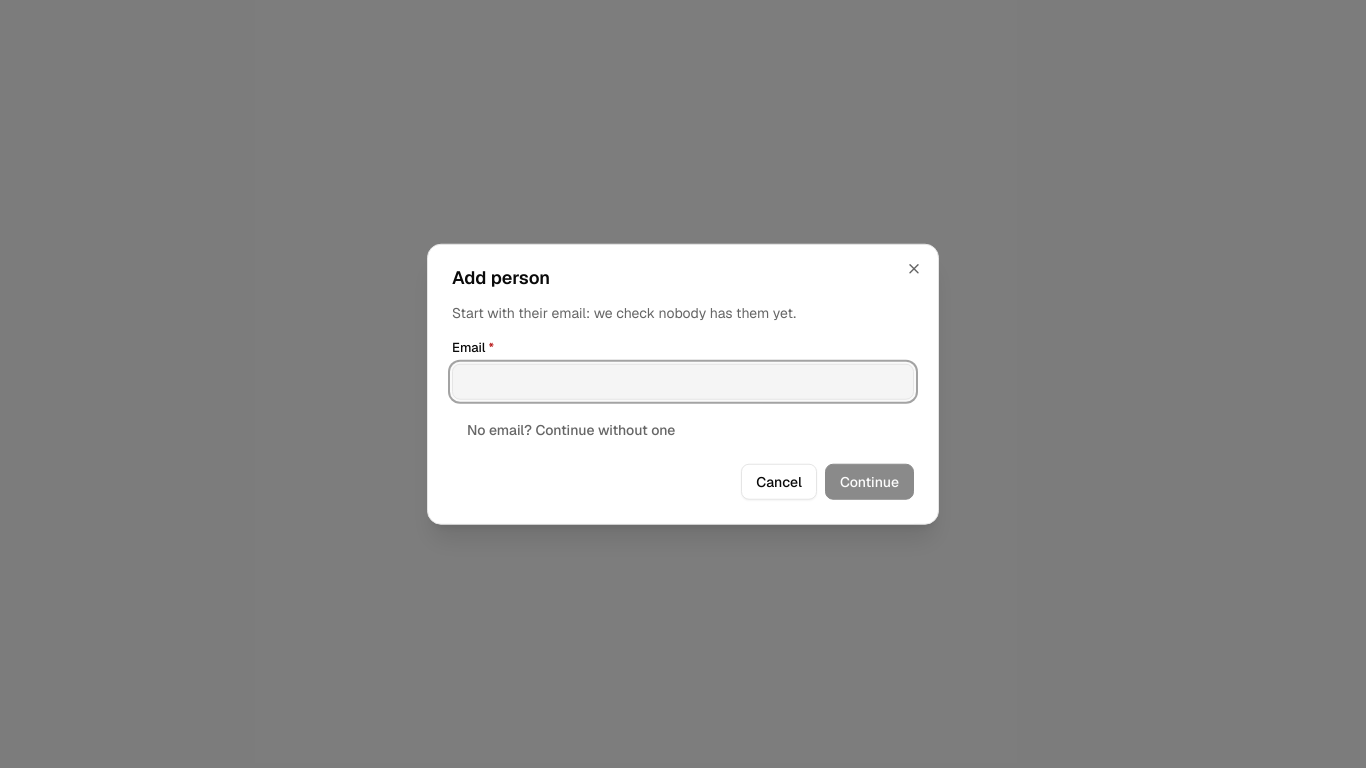
Test: Add person: the address first › a taken address stops there, saying whose person it is
Type "dyoung@ftrintel.com" into the field labelled "Email *" at (683, 381), box [452, 363, 914, 399]
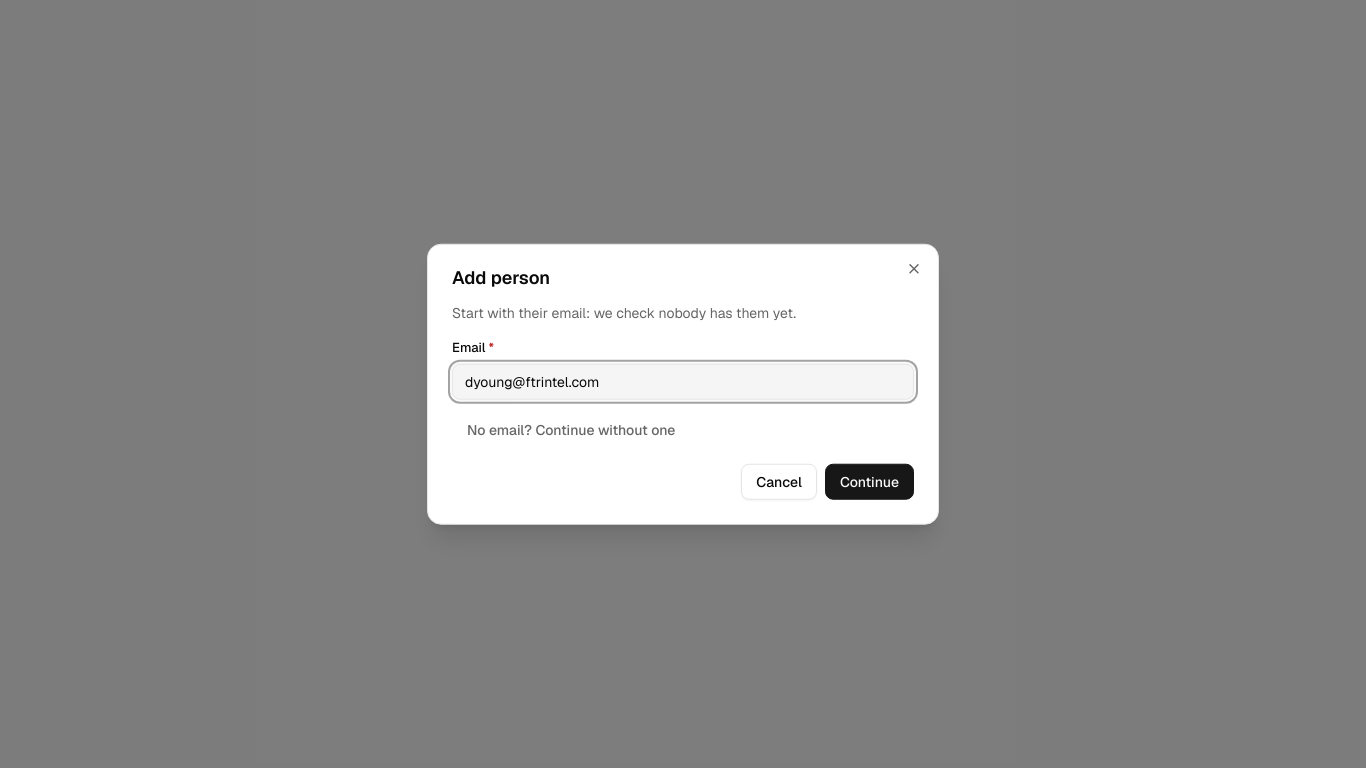
Click the button "Continue" at (869, 481), box [825, 463, 914, 499]
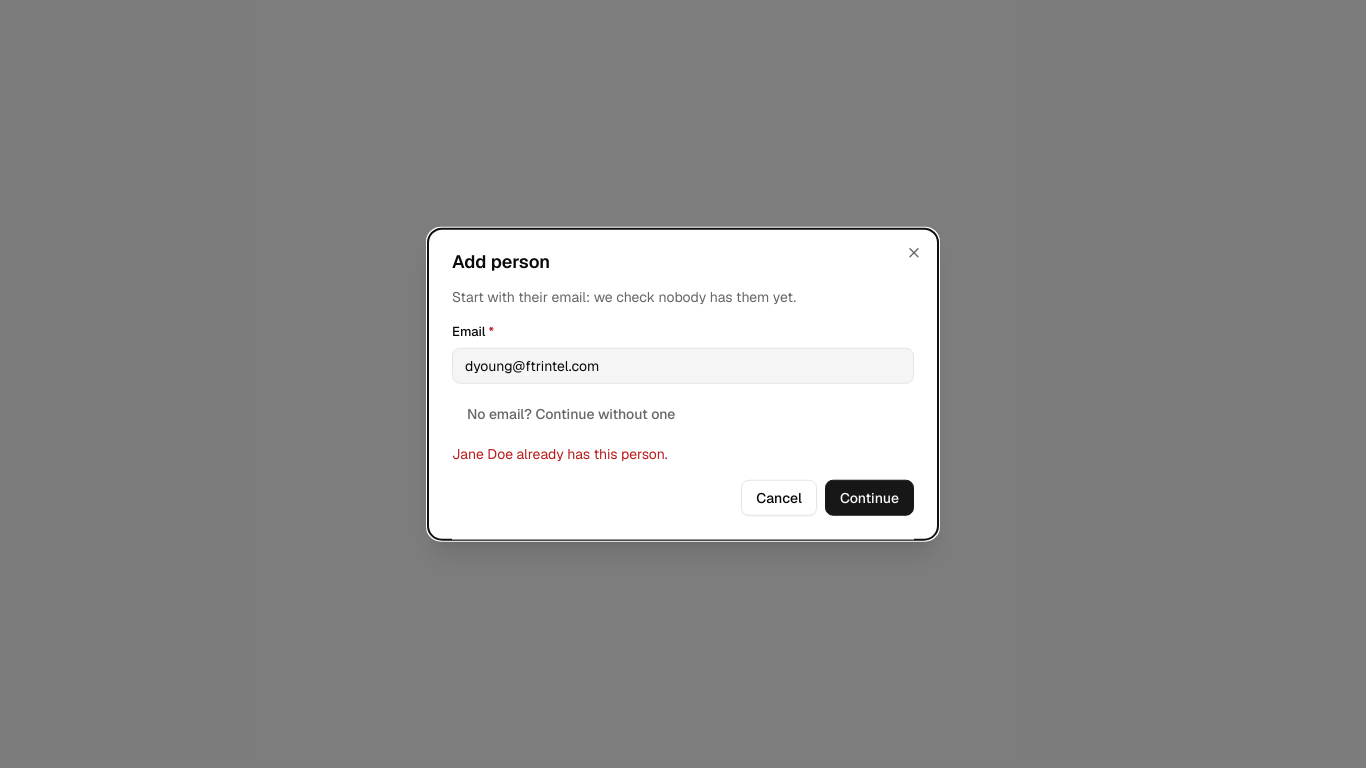
expect the message reads "Jane Doe already has this person.": met, box [452, 444, 668, 462]
